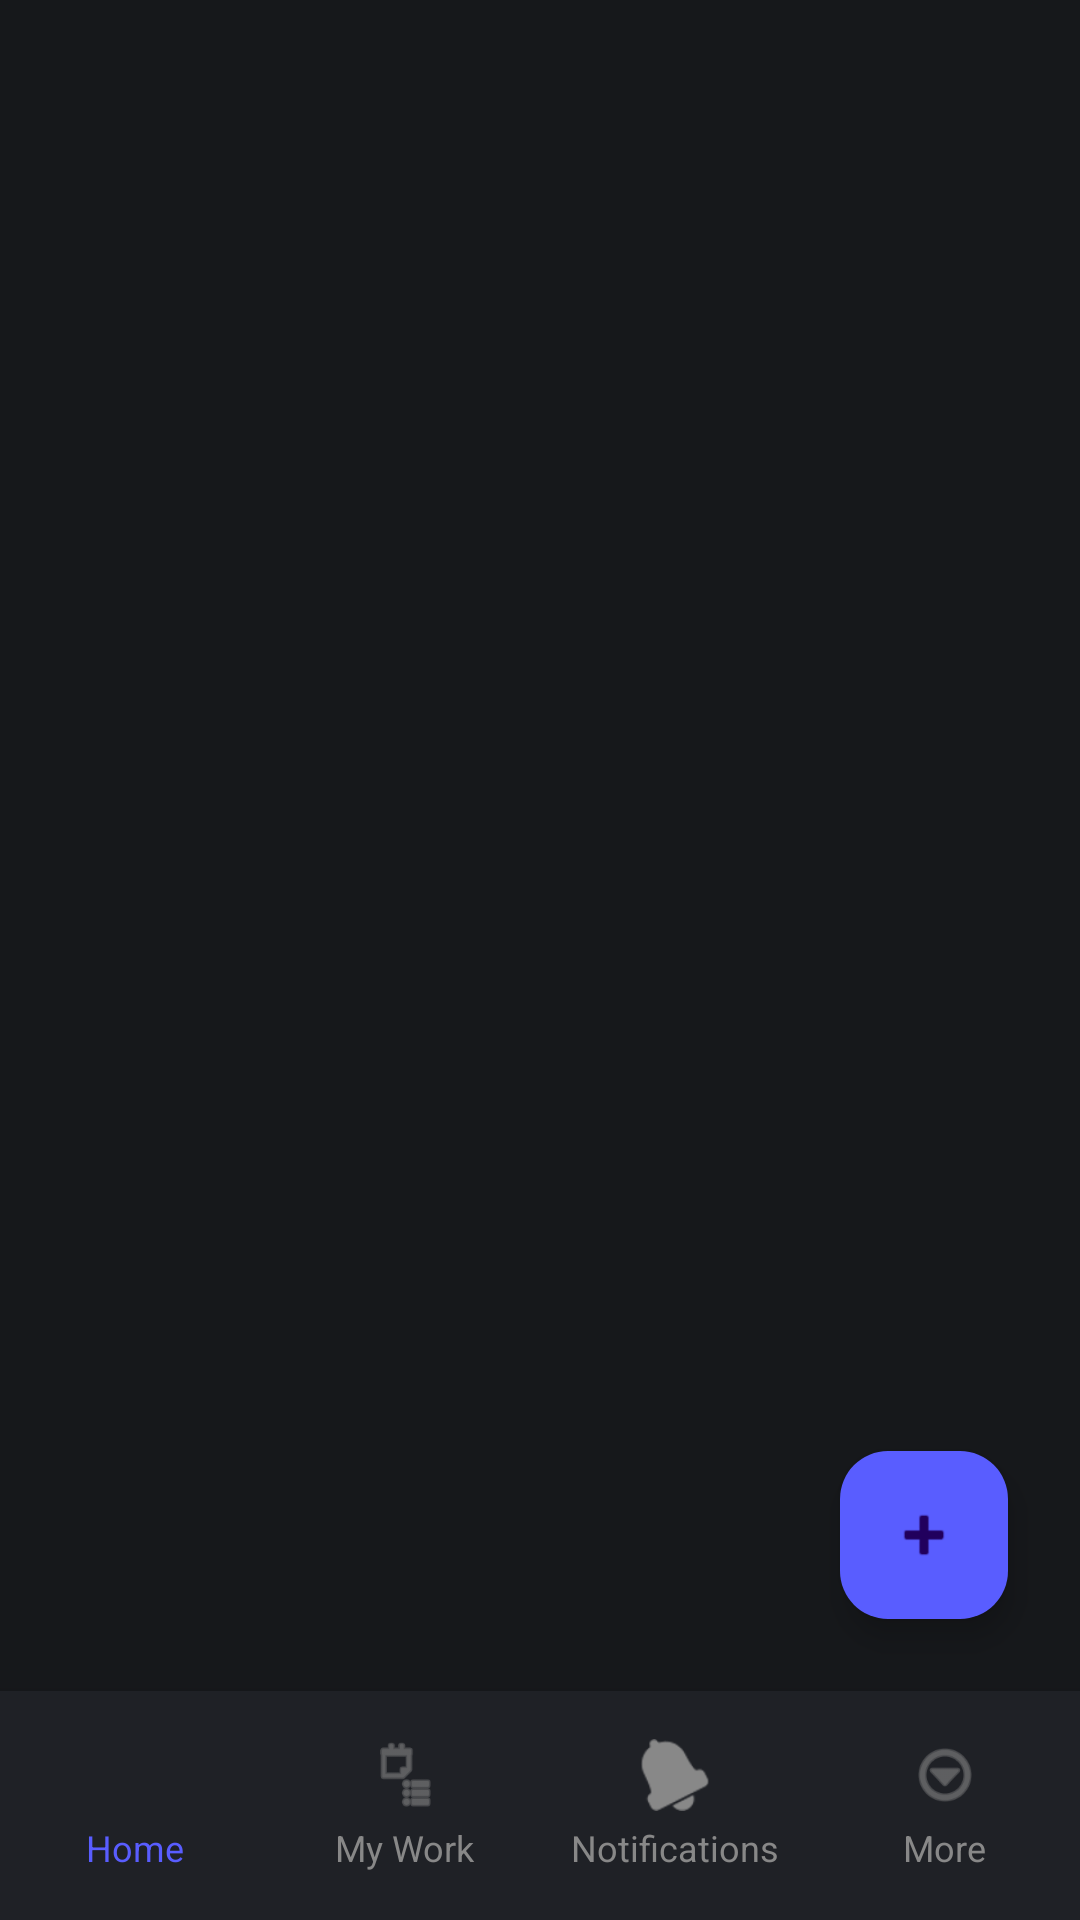

Where icons sit on this 1080 x 1920 app screen, as (x1=x1, y1=y1, x2=x2, y2=y2):
add: (x1=840, y1=1451, x2=1008, y2=1619)
agenda: (x1=380, y1=1743, x2=430, y2=1806)
popup reminder: (x1=641, y1=1739, x2=709, y2=1811)
